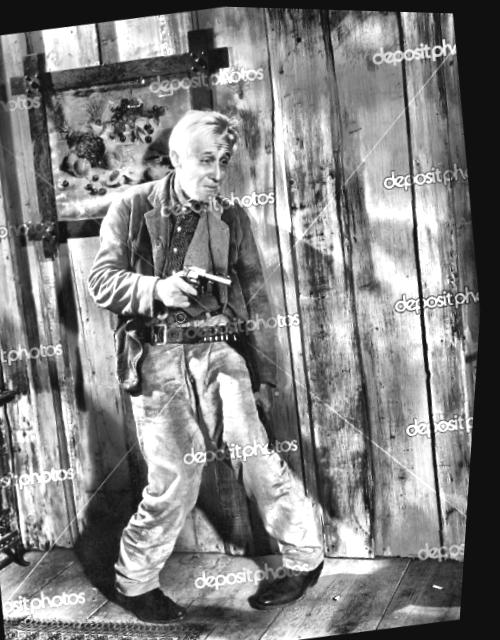pistol: (143, 254, 247, 310)
